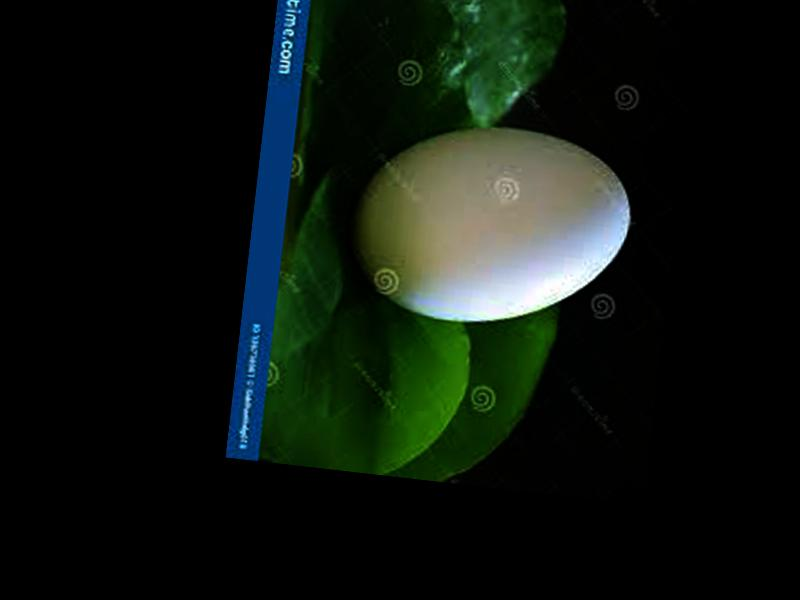Eggs: (343, 110, 639, 340)
